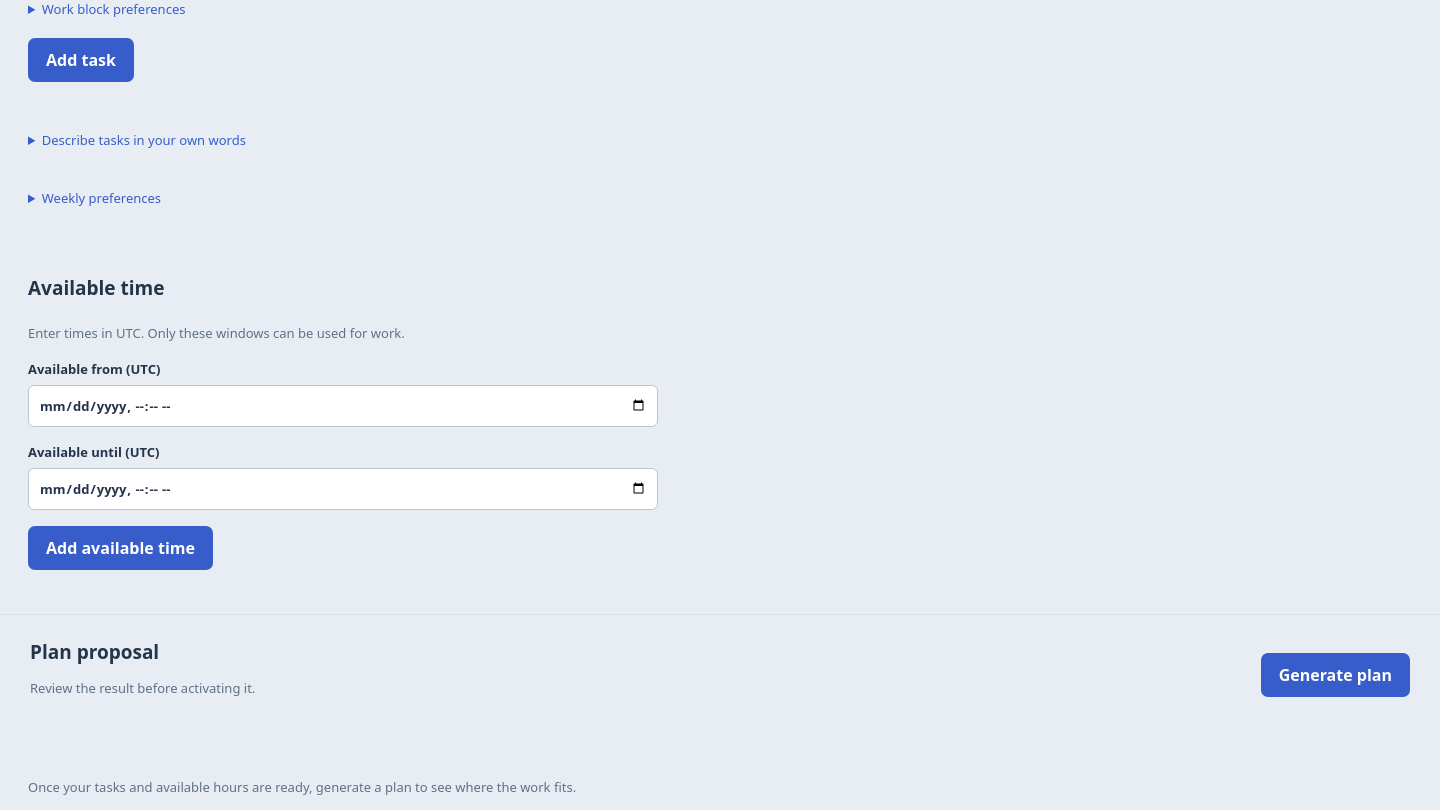
Scenario: availability replacement uses its own snapshot revision when identity is newer
(page scrolled)
Type "2026-10-01T09:00" into the field labelled "Available from (UTC)" at (343,406), box [28, 385, 658, 427]
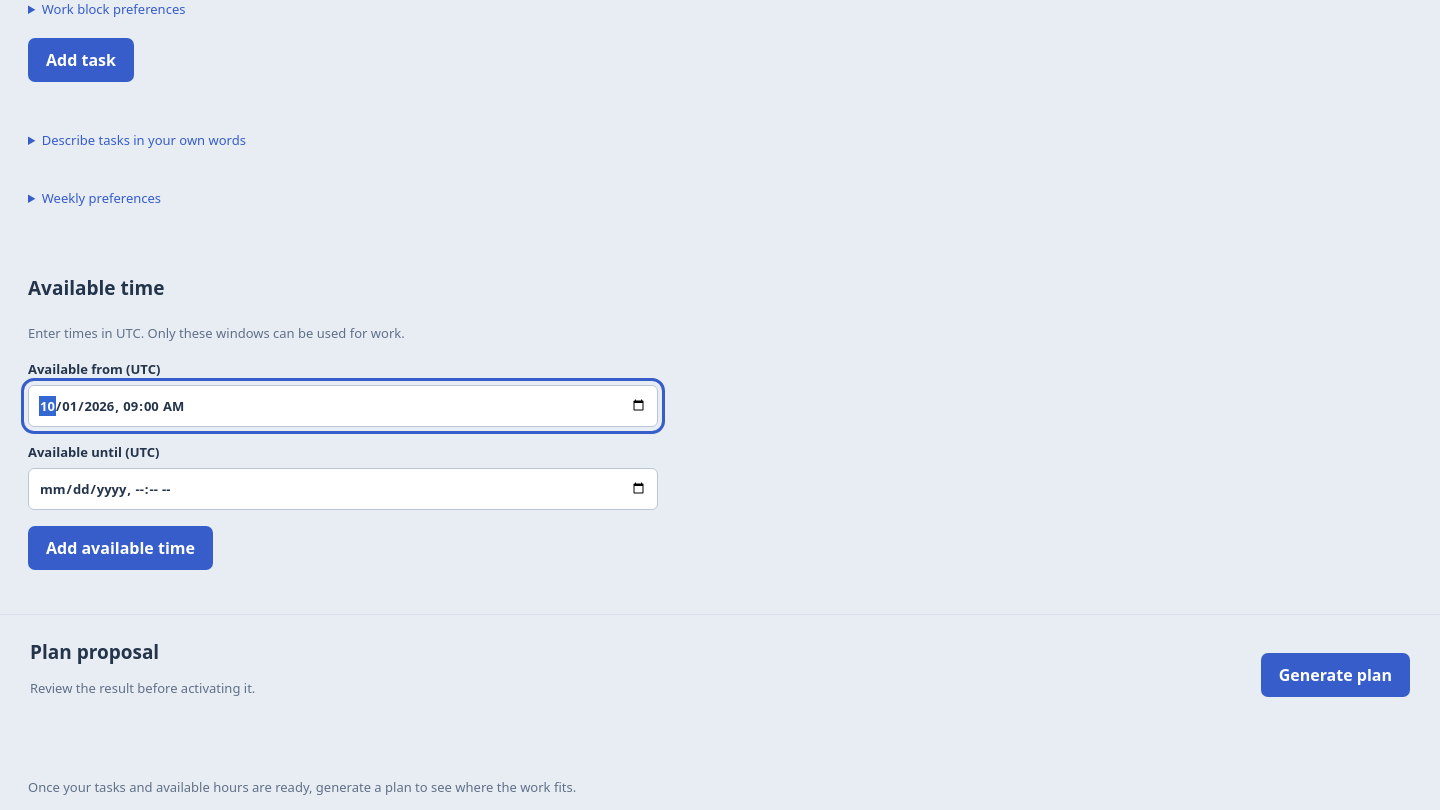
Type "2026-10-01T17:00" into the field labelled "Available until (UTC)" at (343,489), box [28, 468, 658, 510]
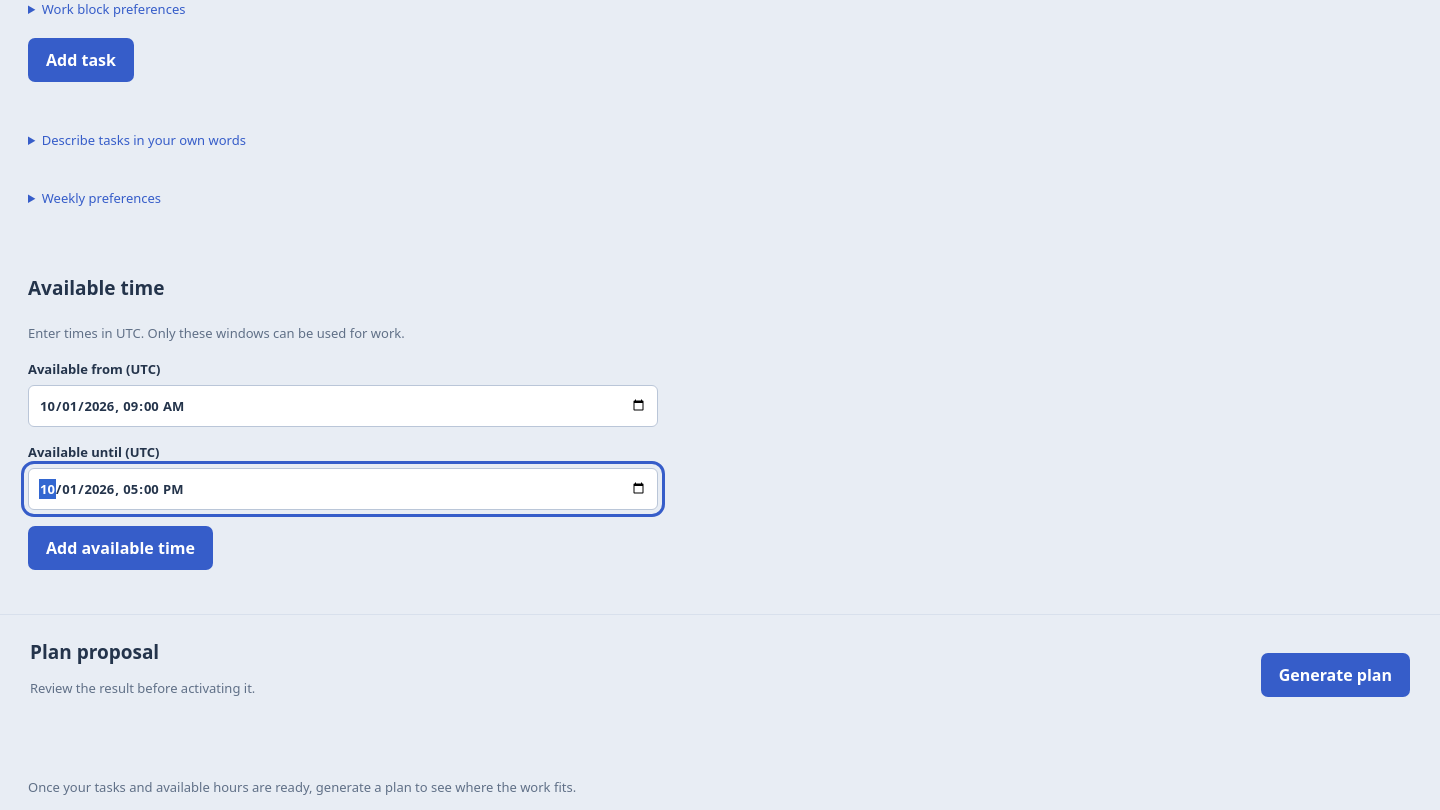
Click the button "Add available time" at (120,548), box [28, 526, 213, 570]
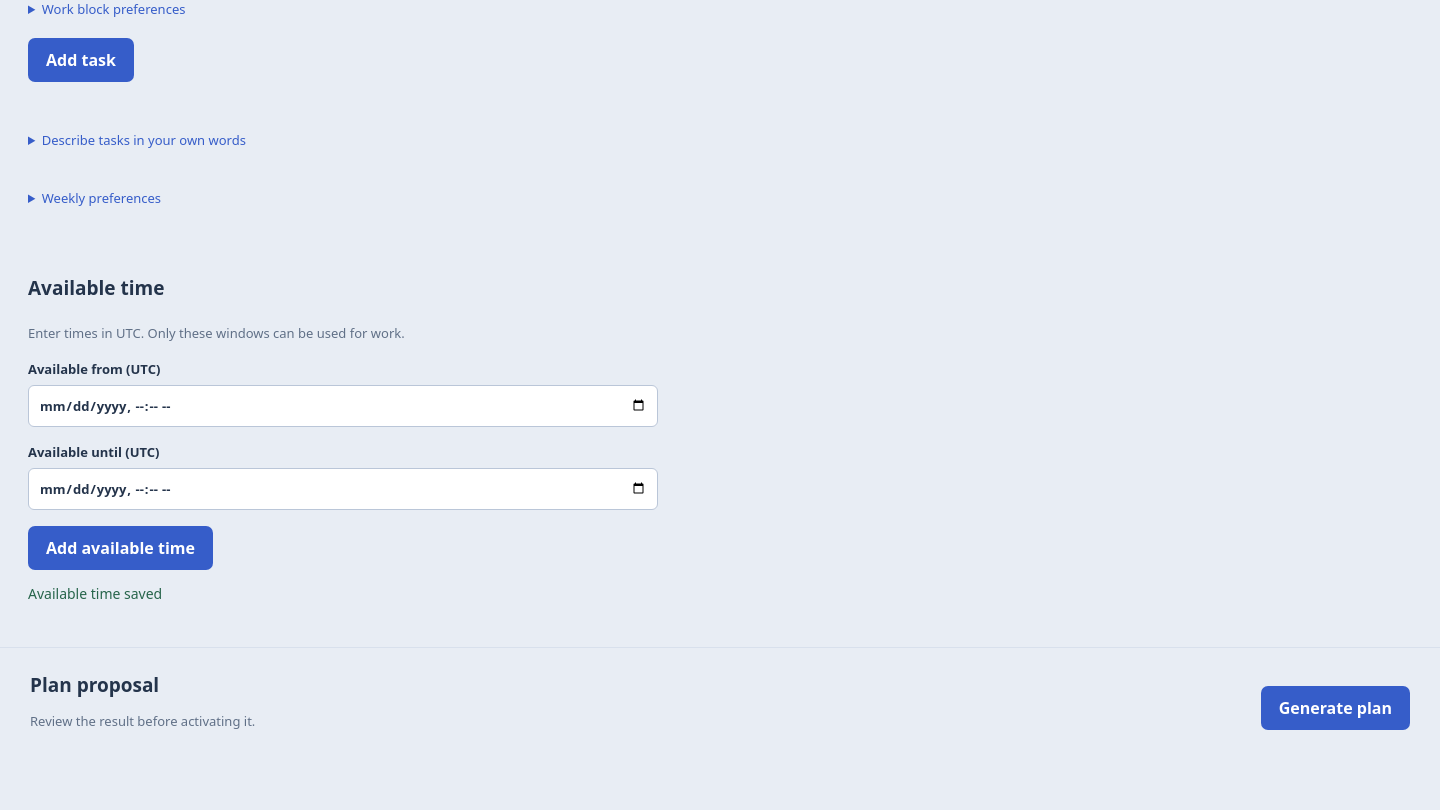
expect the text "Available time saved" is shown: met, box [28, 584, 162, 603]
